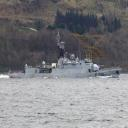Fragata: (9, 31, 124, 80)
